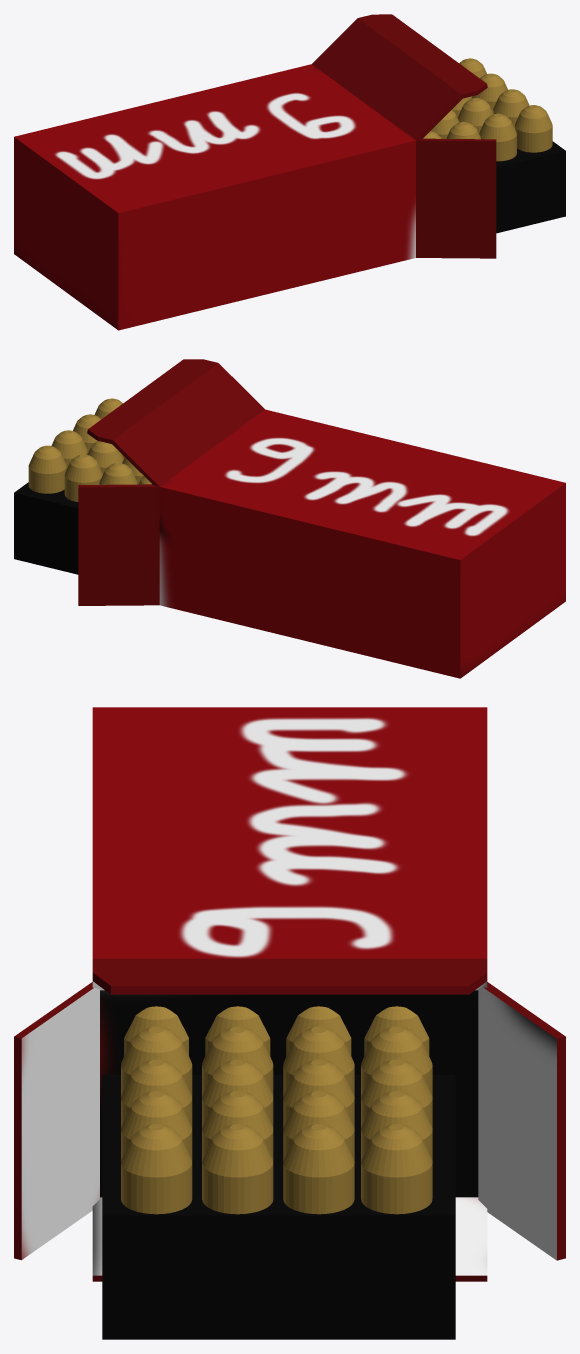
File: tps_ammo_pistol.fbx
3 views of the same model, one above another, from view 1: azimuth 30°, elevation 25°; view 2: azimuth 150°, elevation 25°; view 3: azimuth 270°, elevation 25° (orthographic). The views are drawn at different scales.
Visible parts, largest first — view 1: Round_9mm_Box.001; view 2: Round_9mm_Box.001; view 3: Round_9mm_Box.001.
Boxes of the visible parts, bbox=[...] form: Round_9mm_Box.001: bbox=[14, 14, 565, 330]; Round_9mm_Box.001: bbox=[14, 359, 565, 678]; Round_9mm_Box.001: bbox=[14, 707, 565, 1339].
Size of the model in its own units: 0.4599 by 0.1606 by 0.2584.
